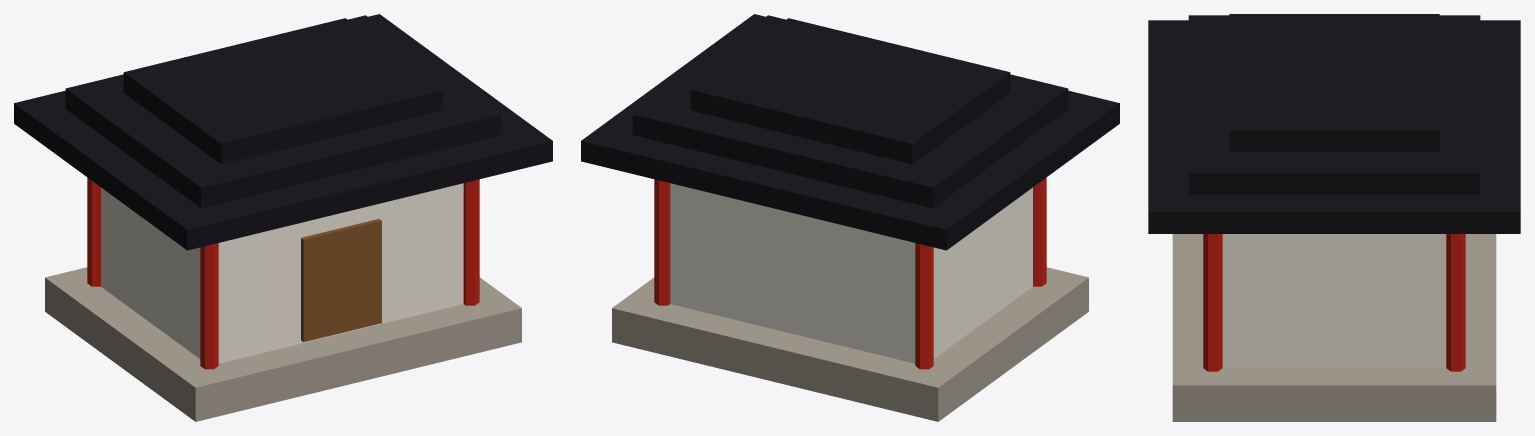
Rendered from shrine_hall.glb.
3 views of the same model, side by side, from view 1: azimuth 30°, elevation 25°; view 2: azimuth 150°, elevation 25°; view 3: azimuth 270°, elevation 25° (orthographic). The views are drawn at different scales.
Parts seen in each view (by area): view 1: shrine_hall; view 2: shrine_hall; view 3: shrine_hall.
Boxes of the visible parts, box(x1,y1,x2,y2) form: shrine_hall: box(14, 14, 552, 421); shrine_hall: box(581, 14, 1119, 421); shrine_hall: box(1148, 14, 1520, 421).
Bounding box in the file's own units: 5.6 × 3.6 × 4.6.
